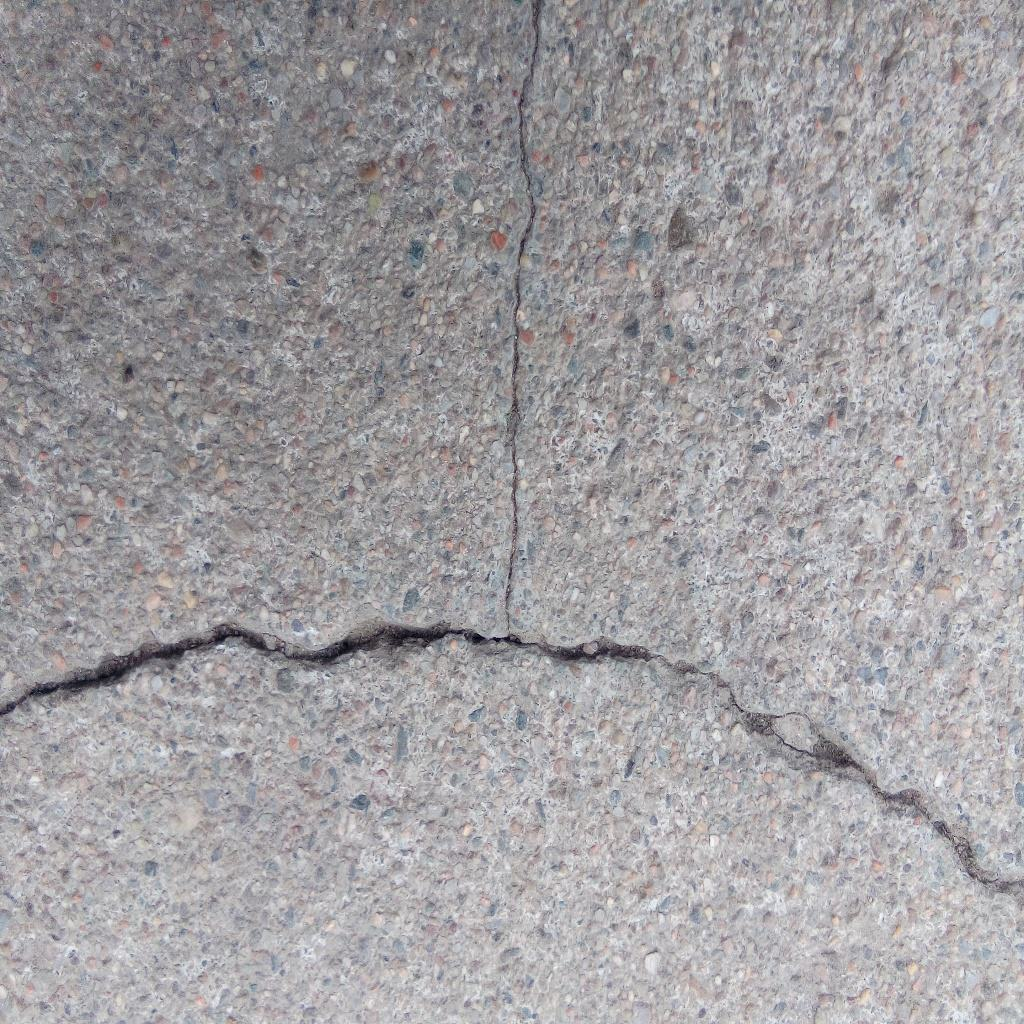Crack: (1, 622, 1024, 891), (503, 1, 545, 640)
